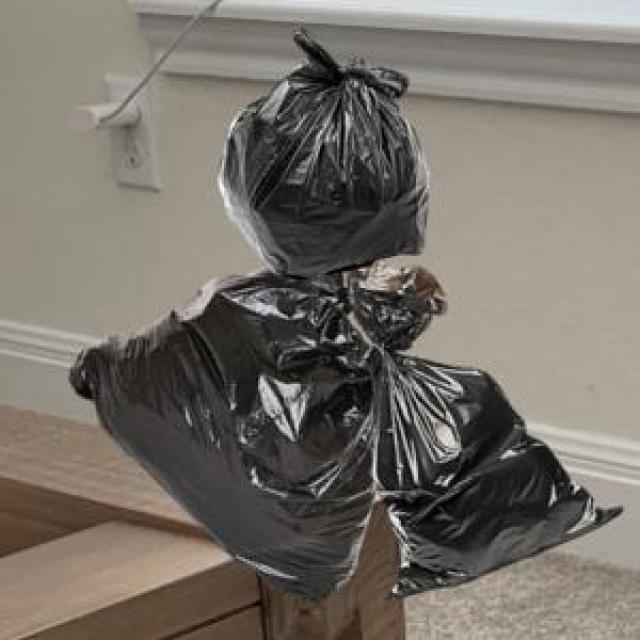Vinyl: (70, 31, 619, 598)
